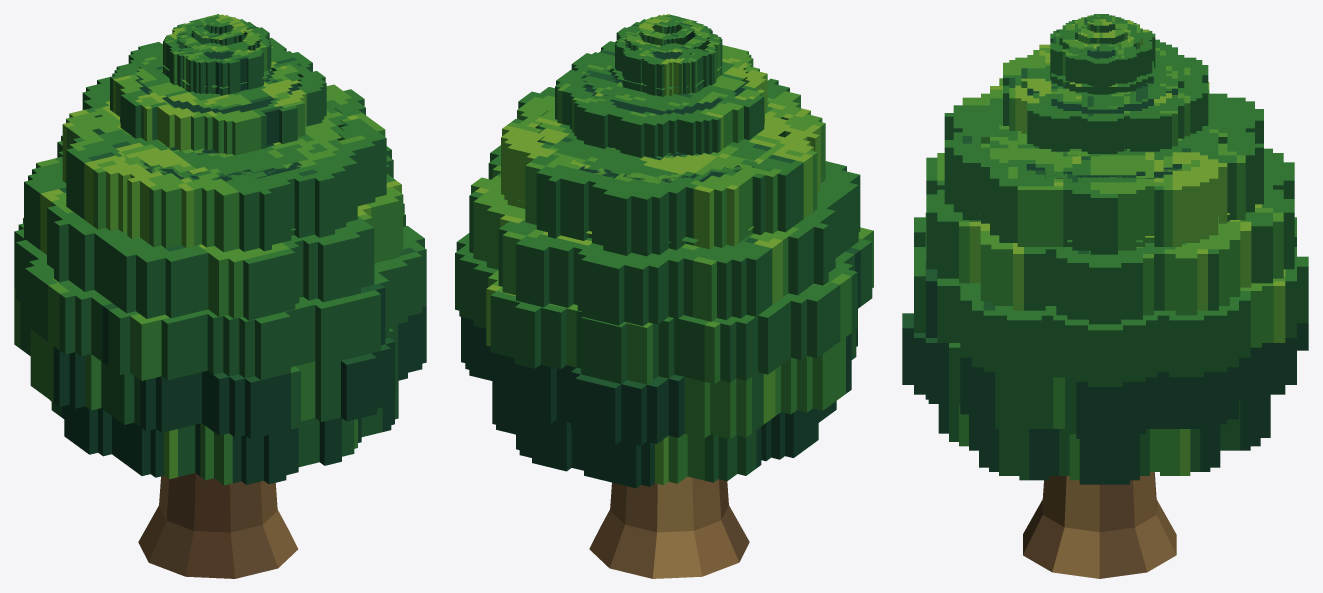
The model's file is SM_Pixel_Tree_A.fbx.
3 views of the same model, side by side, from view 1: azimuth 30°, elevation 25°; view 2: azimuth 150°, elevation 25°; view 3: azimuth 270°, elevation 25° (orthographic).
Parts seen in each view (by area): view 1: SM_Pixel_Tree_A; view 2: SM_Pixel_Tree_A; view 3: SM_Pixel_Tree_A.
Part boxes in pixels (left/top/right/bottom): SM_Pixel_Tree_A: left=14, top=14, right=426, bottom=578; SM_Pixel_Tree_A: left=455, top=14, right=873, bottom=578; SM_Pixel_Tree_A: left=902, top=14, right=1308, bottom=578.
Bounding box in the file's own units: 292 × 292 × 416.
1 material, 1 textured.
